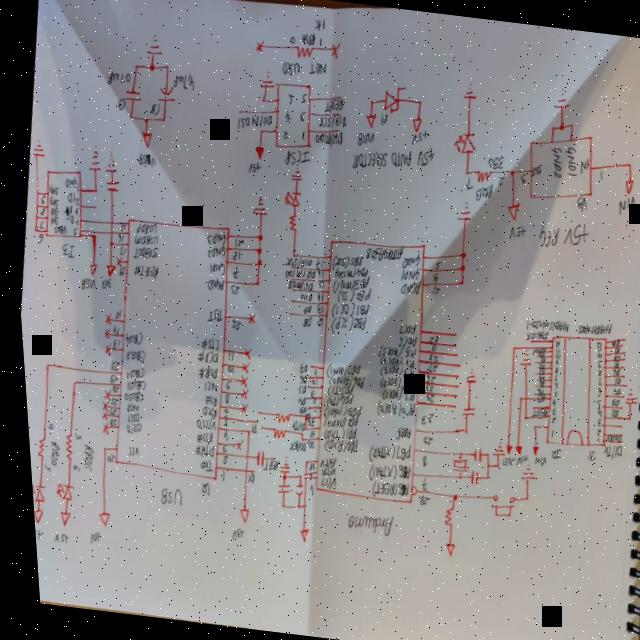capacitor: (154, 79, 179, 107), (154, 80, 178, 106), (122, 88, 142, 104), (100, 178, 117, 193), (464, 446, 477, 464), (455, 404, 470, 418), (269, 482, 284, 496), (248, 448, 259, 467), (462, 468, 472, 486), (286, 482, 297, 496)
crossover: (104, 218, 112, 226), (104, 228, 111, 236), (517, 395, 523, 402), (237, 453, 243, 459), (236, 467, 241, 473)
diode: (379, 83, 406, 115), (448, 128, 476, 156), (46, 481, 68, 501), (278, 188, 299, 208), (25, 482, 40, 502)
ground: (143, 32, 165, 58), (83, 142, 101, 172), (451, 197, 471, 223), (550, 86, 570, 111), (246, 193, 266, 217), (100, 148, 117, 173), (512, 460, 531, 482), (257, 68, 275, 90), (459, 82, 478, 102), (28, 138, 45, 158), (286, 161, 301, 182), (618, 386, 633, 405), (512, 348, 527, 367), (271, 454, 284, 474), (485, 439, 499, 456), (459, 366, 472, 384)
junction: (442, 491, 452, 502), (146, 62, 154, 73), (251, 245, 259, 256), (251, 258, 259, 268), (252, 232, 260, 242), (285, 250, 293, 260), (29, 212, 37, 222), (454, 264, 462, 273), (506, 168, 513, 178), (623, 160, 630, 170), (456, 250, 463, 260), (28, 225, 36, 233), (29, 190, 37, 198), (65, 378, 72, 387), (478, 462, 485, 471), (141, 115, 148, 124), (556, 123, 563, 131), (131, 62, 138, 70), (272, 502, 279, 510), (104, 240, 111, 248), (38, 362, 45, 369), (89, 187, 96, 194), (87, 233, 94, 240), (456, 427, 462, 435), (367, 98, 373, 106), (460, 168, 466, 176), (566, 120, 572, 128), (95, 444, 101, 452), (30, 202, 36, 210), (250, 280, 256, 287), (259, 97, 265, 104), (477, 474, 483, 480), (162, 64, 168, 70), (488, 462, 494, 468), (238, 428, 244, 434), (620, 414, 626, 420), (256, 128, 262, 134), (159, 116, 164, 123), (455, 280, 460, 286), (415, 99, 420, 105), (506, 345, 511, 351), (517, 496, 522, 502), (126, 114, 131, 120), (548, 124, 553, 130), (450, 474, 455, 480), (517, 414, 522, 420), (297, 458, 302, 464), (296, 426, 302, 431), (296, 412, 301, 418), (288, 502, 293, 508), (294, 502, 299, 508), (451, 451, 456, 456), (478, 451, 483, 456), (526, 424, 531, 429), (274, 474, 279, 479), (512, 396, 517, 400), (296, 476, 301, 480), (291, 473, 295, 478), (293, 437, 297, 441), (294, 432, 297, 436), (297, 472, 300, 476)
resistor: (293, 43, 314, 60), (56, 433, 68, 460), (435, 505, 449, 527), (472, 168, 490, 184), (264, 426, 280, 441), (29, 436, 40, 457), (283, 213, 295, 232), (268, 410, 284, 424)
source: (501, 200, 518, 222), (136, 130, 151, 149), (50, 509, 65, 526), (360, 112, 375, 128), (230, 506, 243, 524), (89, 511, 104, 526), (620, 178, 633, 195), (409, 116, 421, 134), (435, 541, 448, 557), (289, 526, 302, 542), (100, 262, 113, 277), (251, 144, 263, 160), (83, 261, 94, 276), (27, 507, 36, 524), (523, 444, 533, 456), (506, 444, 516, 454), (498, 443, 506, 454)
switch: (480, 492, 510, 519)
terminal: (328, 39, 341, 61), (252, 38, 265, 56), (234, 404, 242, 414)
text: (347, 136, 434, 178), (529, 217, 588, 252), (337, 510, 388, 540), (360, 438, 403, 466), (324, 312, 363, 338), (327, 271, 366, 297), (361, 458, 401, 482), (523, 315, 568, 336), (359, 242, 400, 264), (316, 399, 357, 421), (325, 298, 366, 320), (233, 110, 270, 134), (369, 398, 409, 420), (331, 282, 367, 306), (319, 359, 356, 381), (364, 480, 403, 500), (372, 342, 412, 361), (316, 434, 352, 455), (570, 319, 607, 339), (316, 411, 353, 431), (373, 360, 410, 380), (329, 262, 366, 282), (326, 251, 359, 273), (315, 422, 351, 442), (375, 384, 410, 404), (321, 371, 359, 389), (310, 128, 343, 148), (373, 374, 409, 392), (151, 484, 177, 508), (314, 112, 345, 132), (280, 147, 309, 167), (547, 146, 564, 180), (318, 390, 348, 409), (128, 243, 157, 262), (279, 265, 312, 281), (128, 262, 157, 280), (373, 354, 410, 368), (104, 68, 131, 87), (560, 145, 576, 177), (613, 194, 635, 217), (470, 180, 492, 202), (319, 382, 349, 398), (170, 72, 195, 91), (128, 232, 156, 248), (74, 443, 89, 472), (280, 254, 309, 269), (520, 328, 546, 344), (394, 279, 417, 297), (200, 274, 223, 292), (320, 95, 343, 113), (201, 243, 224, 261), (189, 348, 214, 364), (407, 126, 427, 146), (279, 59, 301, 77), (131, 220, 155, 236), (504, 222, 525, 240), (353, 130, 374, 148), (40, 439, 54, 466), (281, 278, 310, 291), (191, 364, 213, 381), (186, 443, 209, 459), (201, 231, 224, 247), (118, 347, 141, 363), (595, 444, 616, 461), (118, 364, 140, 380), (305, 60, 326, 76), (395, 267, 416, 283), (134, 152, 155, 168), (397, 253, 418, 269), (119, 328, 140, 344), (310, 453, 331, 469), (392, 332, 413, 348), (200, 306, 218, 324), (387, 424, 406, 441), (187, 418, 210, 432), (194, 336, 214, 352), (74, 276, 94, 292), (483, 155, 503, 171), (281, 438, 301, 454), (120, 377, 141, 392), (117, 389, 139, 403), (56, 240, 73, 258), (203, 260, 222, 276), (392, 322, 413, 336), (255, 456, 273, 472), (311, 474, 330, 489), (188, 430, 208, 444), (243, 159, 260, 175), (299, 30, 315, 46), (412, 411, 429, 426), (118, 420, 136, 434), (571, 194, 585, 212), (508, 452, 523, 468), (196, 404, 211, 420), (80, 530, 96, 545), (525, 453, 541, 468), (223, 526, 238, 541), (311, 17, 326, 32), (196, 379, 212, 393), (313, 464, 329, 478), (283, 418, 299, 432), (43, 532, 61, 544), (598, 432, 616, 444), (119, 444, 134, 458), (113, 96, 126, 112), (524, 406, 541, 418), (576, 156, 587, 174), (146, 102, 160, 116), (191, 480, 204, 495), (291, 359, 304, 374), (493, 454, 509, 466), (192, 459, 205, 473), (120, 410, 134, 423), (119, 401, 134, 413), (49, 223, 64, 235), (527, 344, 542, 356), (376, 111, 387, 127), (198, 393, 211, 406), (103, 358, 115, 372), (579, 448, 591, 462), (296, 314, 308, 328), (226, 264, 236, 280), (96, 276, 108, 289), (112, 263, 123, 277), (462, 176, 472, 191), (411, 476, 421, 491), (98, 452, 110, 464), (224, 284, 236, 296), (45, 184, 57, 196), (544, 447, 555, 460), (415, 434, 426, 447), (45, 195, 56, 208), (105, 322, 115, 336), (310, 256, 320, 270), (297, 302, 307, 316), (280, 108, 289, 123), (225, 318, 236, 330), (411, 495, 423, 506), (422, 333, 434, 344), (45, 214, 56, 226), (529, 164, 539, 177), (61, 178, 74, 188), (106, 336, 116, 349), (62, 190, 72, 203), (291, 382, 301, 395), (292, 372, 302, 385), (429, 258, 438, 272), (214, 428, 223, 442), (109, 306, 118, 320), (228, 248, 237, 262), (32, 232, 41, 246), (300, 414, 309, 428), (418, 391, 429, 402), (419, 372, 430, 383), (229, 237, 240, 248), (493, 174, 503, 186), (413, 455, 422, 468), (243, 421, 252, 434), (60, 202, 69, 215), (298, 92, 306, 106), (284, 92, 292, 106), (294, 292, 308, 300), (101, 417, 111, 428), (426, 284, 436, 295), (422, 362, 433, 372), (421, 352, 432, 362), (61, 213, 71, 224), (45, 206, 55, 217), (604, 397, 614, 408), (605, 367, 615, 378), (530, 392, 540, 403), (311, 268, 321, 279), (299, 438, 309, 449), (291, 394, 301, 405), (239, 471, 247, 484), (300, 482, 308, 495), (588, 397, 596, 410), (311, 314, 319, 327), (418, 382, 428, 392), (606, 386, 616, 396), (310, 303, 319, 314), (103, 372, 112, 383), (606, 337, 615, 348), (297, 128, 304, 142), (115, 244, 123, 256), (279, 128, 286, 141), (217, 391, 224, 404), (222, 348, 229, 361), (594, 168, 601, 181), (589, 385, 596, 398), (28, 527, 34, 542), (220, 364, 229, 374), (604, 408, 613, 418), (101, 406, 110, 416), (105, 384, 114, 394), (67, 431, 77, 440), (606, 353, 616, 362), (530, 386, 539, 396), (292, 404, 301, 414), (516, 173, 524, 184), (214, 442, 222, 453), (218, 379, 226, 390), (36, 193, 44, 204), (36, 462, 44, 473), (589, 407, 597, 418), (311, 291, 319, 302), (296, 110, 303, 122), (213, 468, 219, 482), (313, 278, 320, 290), (305, 374, 312, 386), (104, 397, 113, 406), (65, 463, 74, 472), (113, 232, 121, 242), (40, 420, 48, 430), (608, 344, 616, 354), (428, 271, 435, 282), (34, 218, 41, 229), (70, 196, 77, 207), (589, 417, 596, 428), (301, 460, 308, 471), (68, 227, 76, 236), (115, 223, 123, 232), (35, 207, 43, 216), (316, 35, 322, 47), (607, 376, 616, 384), (214, 454, 221, 464), (425, 342, 432, 352), (544, 406, 551, 416), (531, 378, 538, 388), (301, 428, 308, 438), (216, 416, 222, 427), (216, 407, 222, 418), (590, 351, 598, 359), (589, 340, 597, 348), (548, 339, 556, 347), (607, 359, 614, 368), (588, 427, 595, 436), (590, 368, 597, 377), (70, 216, 76, 226), (288, 34, 294, 44), (591, 376, 597, 386), (300, 471, 306, 481), (305, 395, 311, 405), (543, 415, 550, 423), (548, 352, 556, 359), (532, 374, 539, 382), (532, 368, 539, 376), (533, 356, 540, 364), (531, 351, 539, 358), (72, 182, 77, 192), (591, 358, 596, 368), (545, 396, 550, 406), (306, 404, 311, 414), (304, 388, 309, 398), (542, 429, 548, 437), (547, 366, 553, 374), (531, 362, 539, 368), (306, 367, 312, 375), (546, 389, 552, 396), (549, 346, 555, 353), (588, 436, 594, 442), (591, 346, 597, 352), (548, 358, 554, 364), (71, 207, 76, 214), (547, 382, 552, 389), (547, 374, 552, 381)
